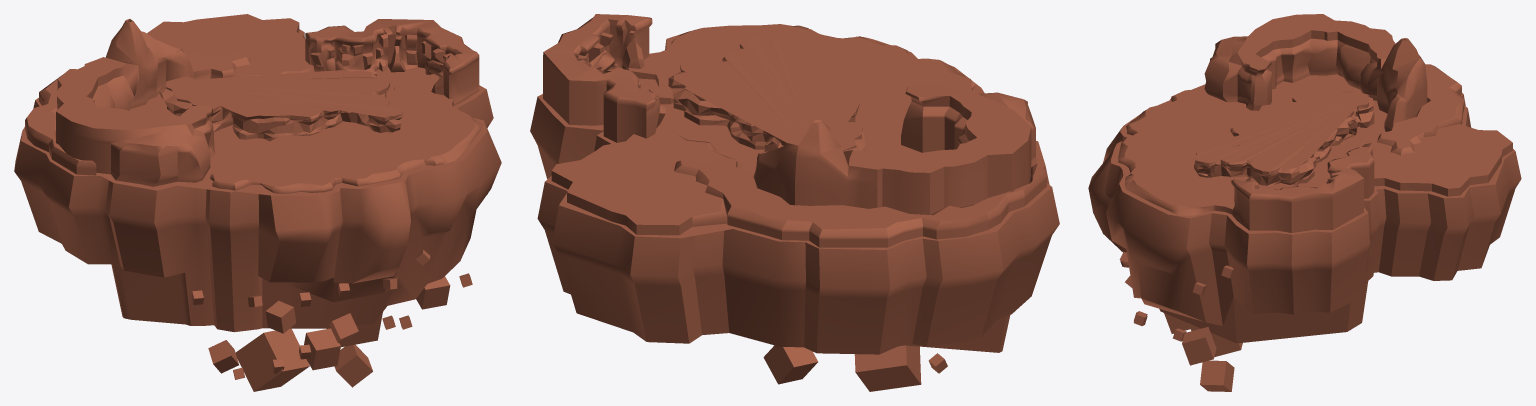
3 renders of one model, left to right at view 1: azimuth 30°, elevation 25°; view 2: azimuth 150°, elevation 25°; view 3: azimuth 270°, elevation 25°, orthographic. The views are drawn at different scales.
Parts seen in each view (by area): view 1: polySurface10, polySurface4, polySurface3, polySurface1, polySurface9, polySurface7, polySurface5, pCube20, pCube6, pCube11, pCube8, pCube14 (+3 smaller); view 2: polySurface10, polySurface4, polySurface1, polySurface3, polySurface5, polySurface7, polySurface9, pCube20, pCube11; view 3: polySurface10, polySurface4, polySurface3, polySurface1, polySurface9, polySurface7, polySurface5, pCube8, pCube11, pCube10.
Boxes of the visible parts, bbox=[...] form: polySurface10: bbox=[14, 29, 501, 332]; polySurface4: bbox=[56, 19, 215, 186]; polySurface3: bbox=[210, 82, 483, 193]; polySurface1: bbox=[159, 70, 402, 141]; polySurface9: bbox=[305, 19, 479, 105]; polySurface7: bbox=[147, 14, 314, 77]; polySurface5: bbox=[25, 52, 250, 175]; pCube20: bbox=[235, 328, 309, 391]; pCube6: bbox=[304, 328, 340, 370]; pCube11: bbox=[334, 344, 372, 387]; pCube8: bbox=[416, 276, 450, 309]; pCube14: bbox=[265, 300, 296, 333]; polySurface10: bbox=[530, 24, 1059, 354]; polySurface4: bbox=[753, 84, 1037, 214]; polySurface1: bbox=[668, 36, 865, 151]; polySurface3: bbox=[626, 24, 975, 119]; polySurface5: bbox=[674, 157, 1046, 247]; polySurface7: bbox=[551, 132, 742, 235]; polySurface9: bbox=[543, 14, 665, 142]; pCube20: bbox=[854, 345, 921, 391]; pCube11: bbox=[763, 345, 818, 384]; polySurface10: bbox=[1088, 74, 1521, 343]; polySurface4: bbox=[1204, 14, 1427, 131]; polySurface3: bbox=[1118, 90, 1294, 215]; polySurface1: bbox=[1194, 90, 1374, 186]; polySurface9: bbox=[1231, 146, 1374, 232]; polySurface7: bbox=[1362, 124, 1512, 196]; polySurface5: bbox=[1377, 64, 1464, 155]; pCube8: bbox=[1182, 327, 1216, 365]; pCube11: bbox=[1200, 360, 1234, 391]; pCube10: bbox=[1189, 323, 1242, 356].
Size of the model in its own units: 11.13 by 8.15 by 10.73.
